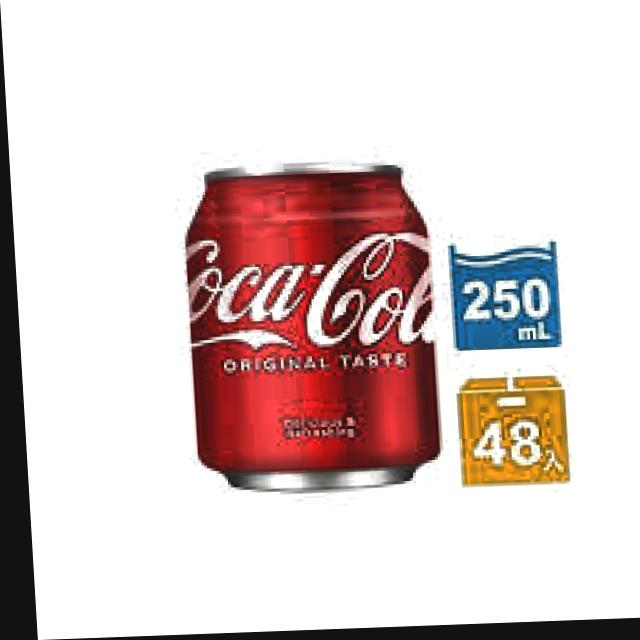can: (169, 152, 447, 513)
